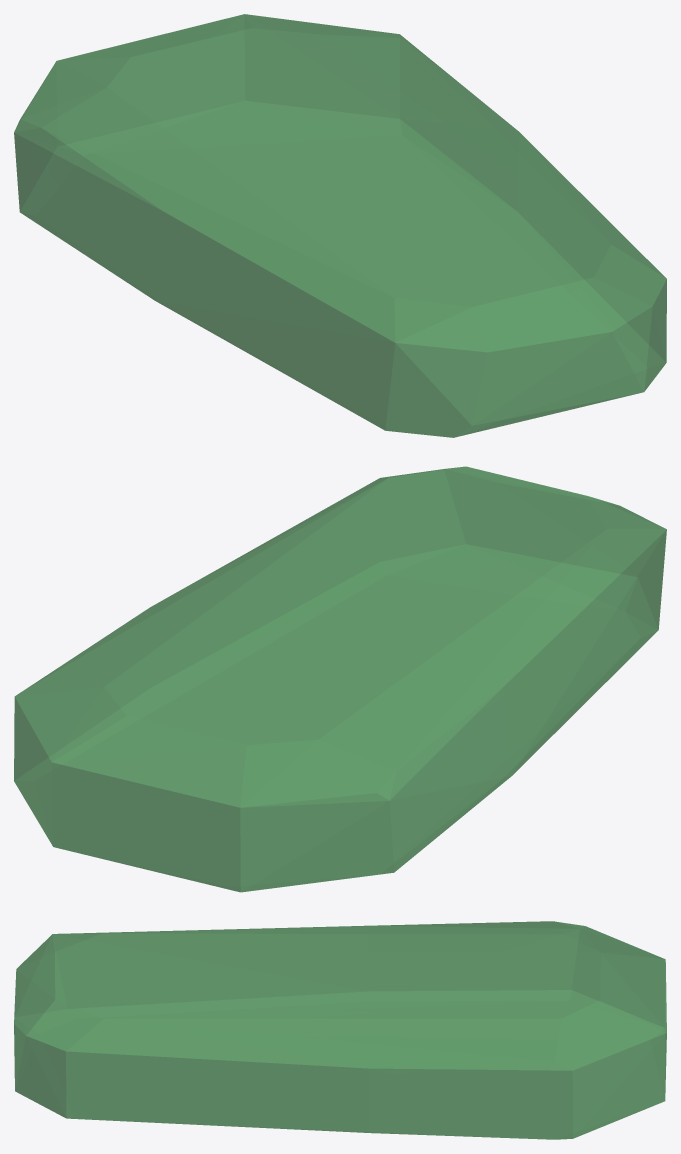
The picture shows the model from 3 angles, top to bottom: view 1: azimuth 30°, elevation 25°; view 2: azimuth 150°, elevation 25°; view 3: azimuth 270°, elevation 25°; orthographic projection. The views are drawn at different scales.
Parts seen in each view (by area): view 1: Shape_IndexedFaceSet.003_Shape_IndexedFaceSet.1307; view 2: Shape_IndexedFaceSet.003_Shape_IndexedFaceSet.1307; view 3: Shape_IndexedFaceSet.003_Shape_IndexedFaceSet.1307.
Boxes of the visible parts, x1=… form: Shape_IndexedFaceSet.003_Shape_IndexedFaceSet.1307: x1=14, y1=14, x2=666, y2=437; Shape_IndexedFaceSet.003_Shape_IndexedFaceSet.1307: x1=14, y1=466, x2=666, y2=892; Shape_IndexedFaceSet.003_Shape_IndexedFaceSet.1307: x1=14, y1=921, x2=666, y2=1139.
Bounding box in the file's own units: 0.3396 × 0.0994 × 0.6298.
